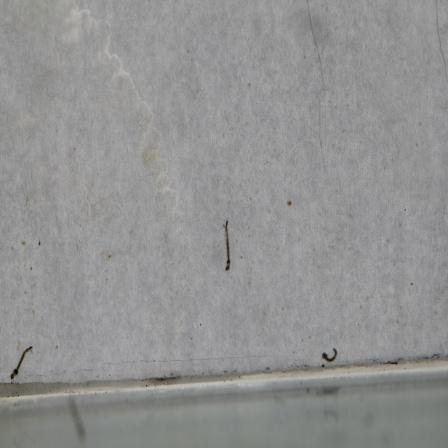Jentik-Nyamuk: (8, 343, 36, 381), (220, 217, 235, 278), (318, 346, 341, 362)
